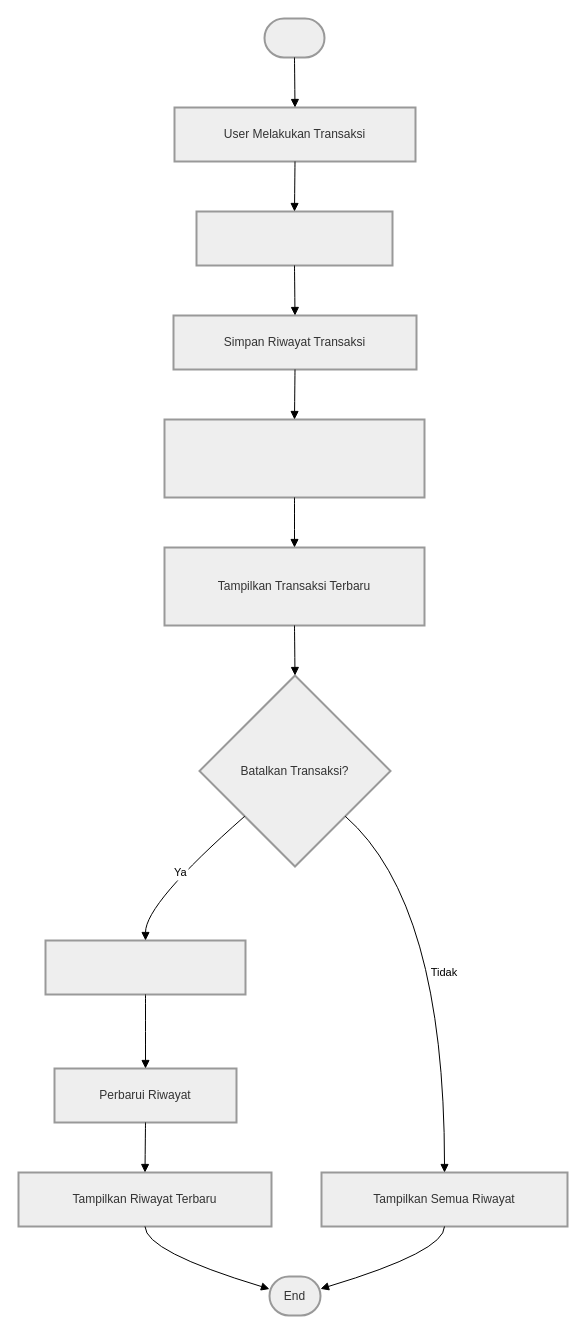
This 585x1333 diagram has some shape labels left out. Each missing label, with the centre of its shape:
Pop Data dari Stack: (x=145, y=967)
Push Data ke Stack: (x=294, y=238)
Start: (x=294, y=37)
User Membuka Halaman Riwayat: (x=294, y=458)
